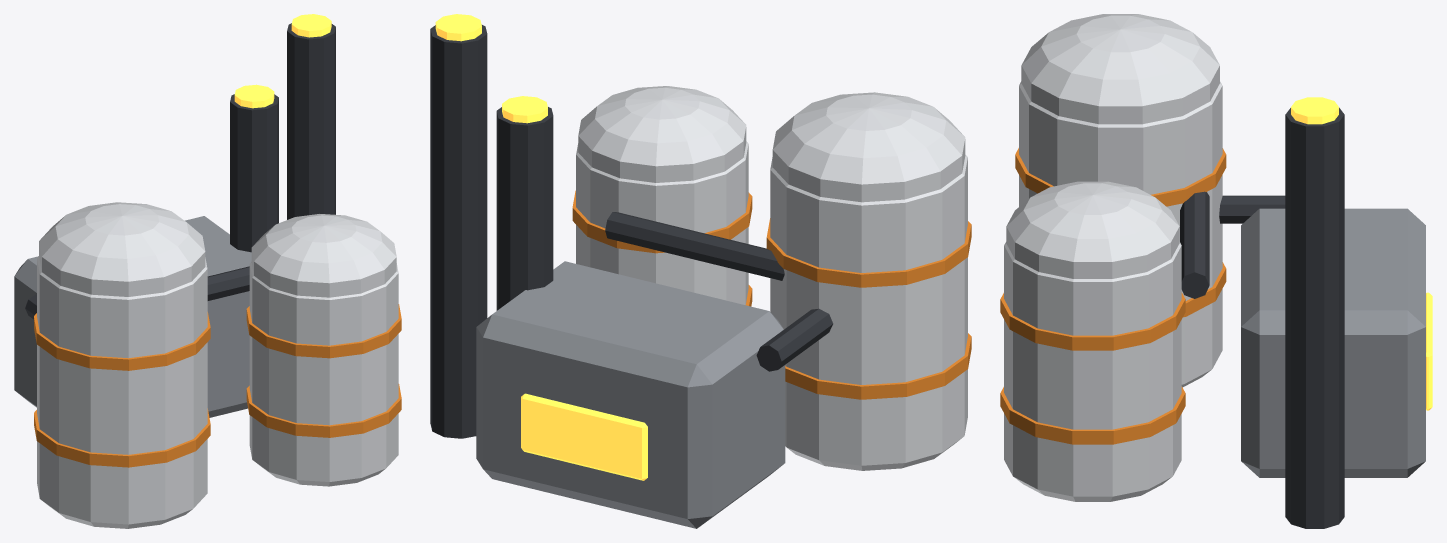
Rendered from refinery.glb.
3 renders of one model, left to right at view 1: azimuth 30°, elevation 25°; view 2: azimuth 150°, elevation 25°; view 3: azimuth 270°, elevation 25°, orthographic. The views are drawn at different scales.
Parts seen in each view (by area): view 1: refinery; view 2: refinery; view 3: refinery.
Part boxes in pixels (<box>): refinery: <box>14,14,401,528</box>; refinery: <box>430,14,971,528</box>; refinery: <box>1000,14,1432,528</box>.
Size of the model in its own units: 2.71 by 2.45 by 2.33.
